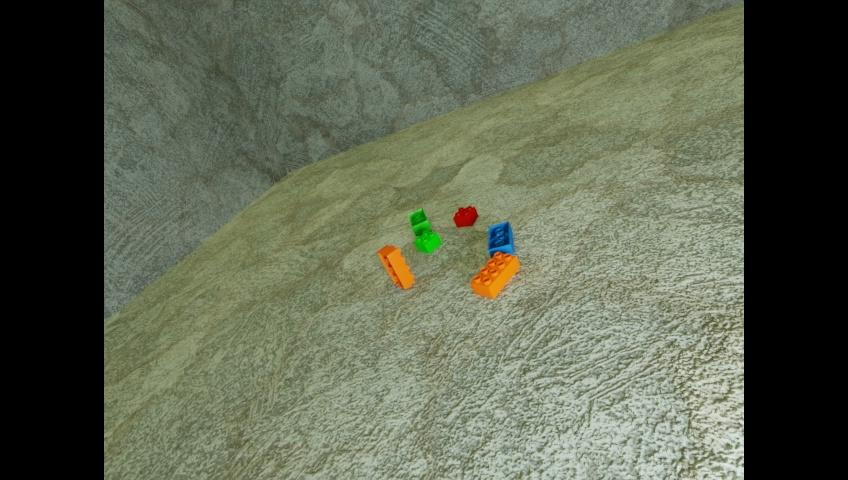2x2_green: (414, 229, 441, 253)
2x2_red: (453, 205, 477, 227)
4x2_blue: (488, 220, 513, 259)
4x2_green: (408, 207, 430, 235)
4x2_orange: (469, 251, 519, 298), (377, 244, 413, 289)
